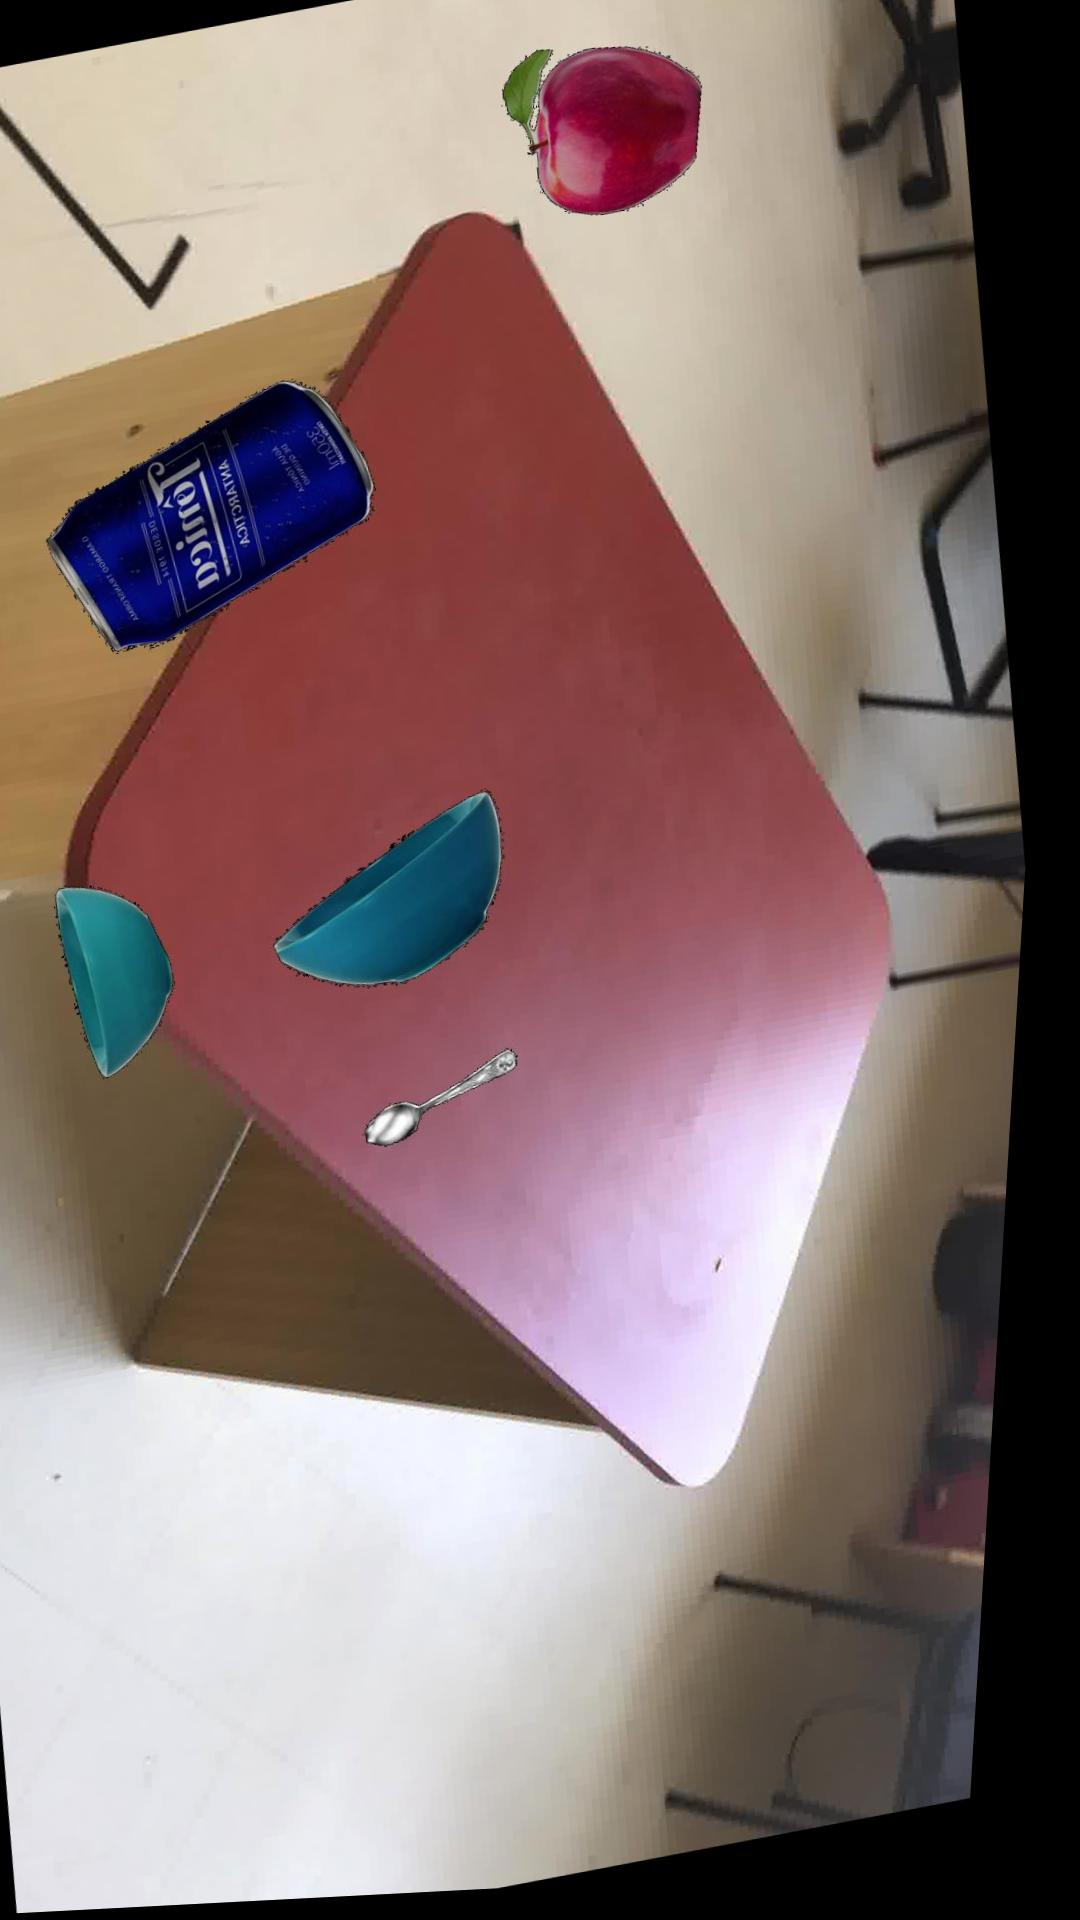apple: (501, 51, 700, 219)
bowl: (282, 795, 510, 988), (63, 885, 183, 1077)
spoon: (376, 1052, 529, 1149)
tonic: (50, 381, 378, 651)
